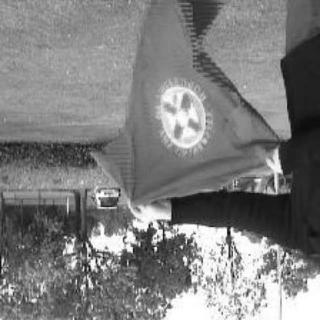other: (84, 4, 286, 216)
